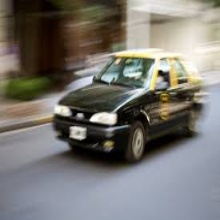no damage: (52, 48, 203, 162)
